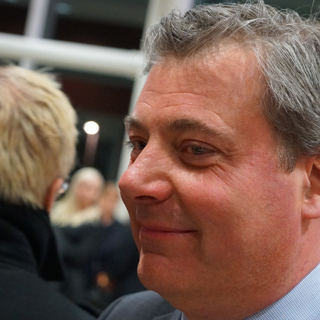eye: (172, 135, 223, 163), (123, 131, 152, 155)
